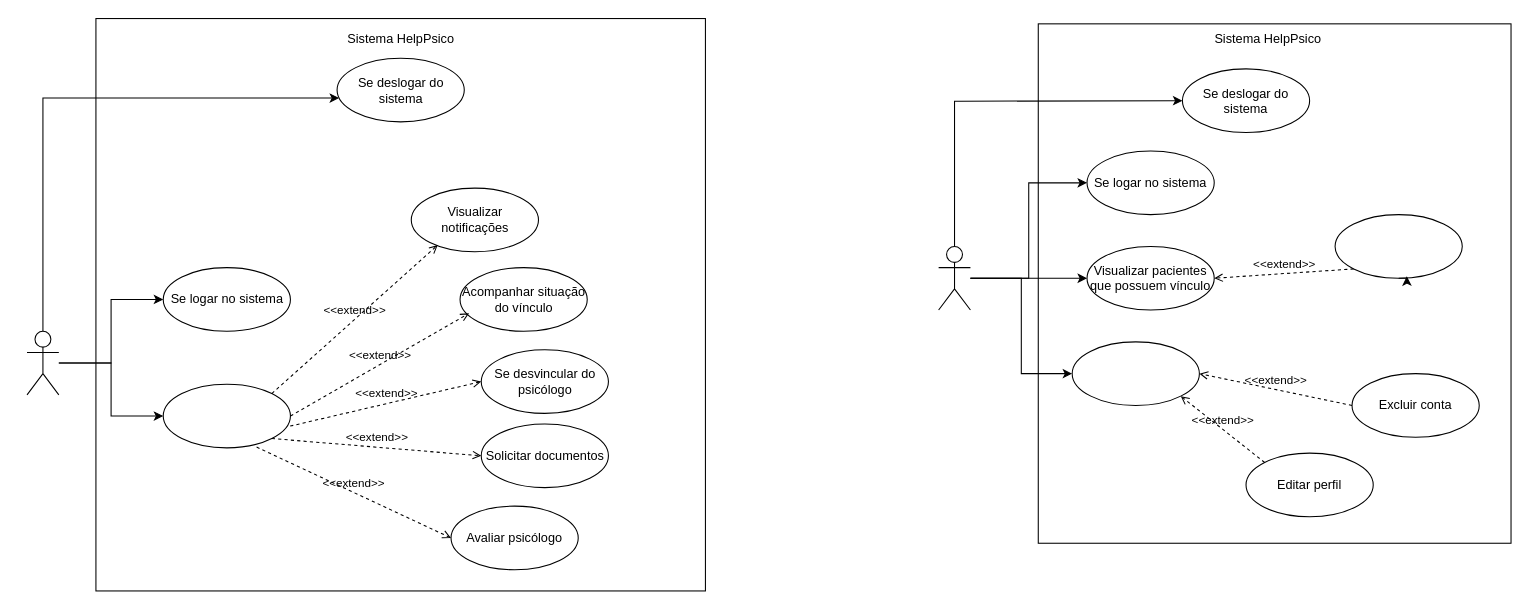
The diagram is 1530 pixels wide and 609 high, and some of its shapes have lost their labels. Each missing label, with the centre of its shape:
Acompanhar sua sessão: point 226,415
Gerenciar pacientes: point 1398,246
Paciente: point 42,362
Psicólogo: point 954,277
Ver perfil: point 1135,373
